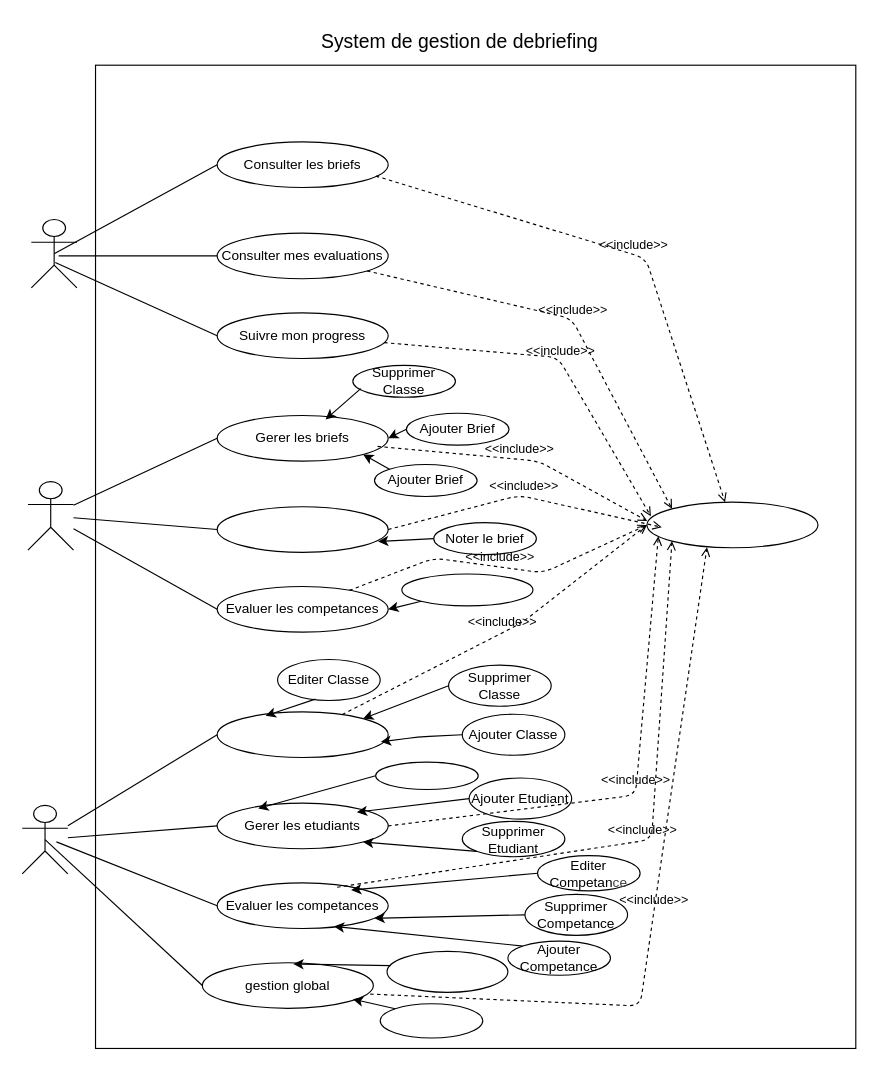
Some shapes in this 877 by 1068 pixel diagram are drawn without their labels. Here are the shapes that lost their labels. From the top down, the box of each, then its label:
(30, 218, 77, 288): Apprenant
(27, 481, 74, 550): Formateur
(216, 506, 388, 552): Realiser le debriefing
(646, 501, 818, 548): Authentification
(401, 573, 533, 606): valider la compertance
(216, 711, 388, 758): Gerer les classes
(374, 761, 478, 789): Editer Etudiant
(21, 804, 68, 874): Admin
(386, 950, 508, 992): assigner formateur a une classe
(379, 1003, 483, 1038): Gestion des formateurs
